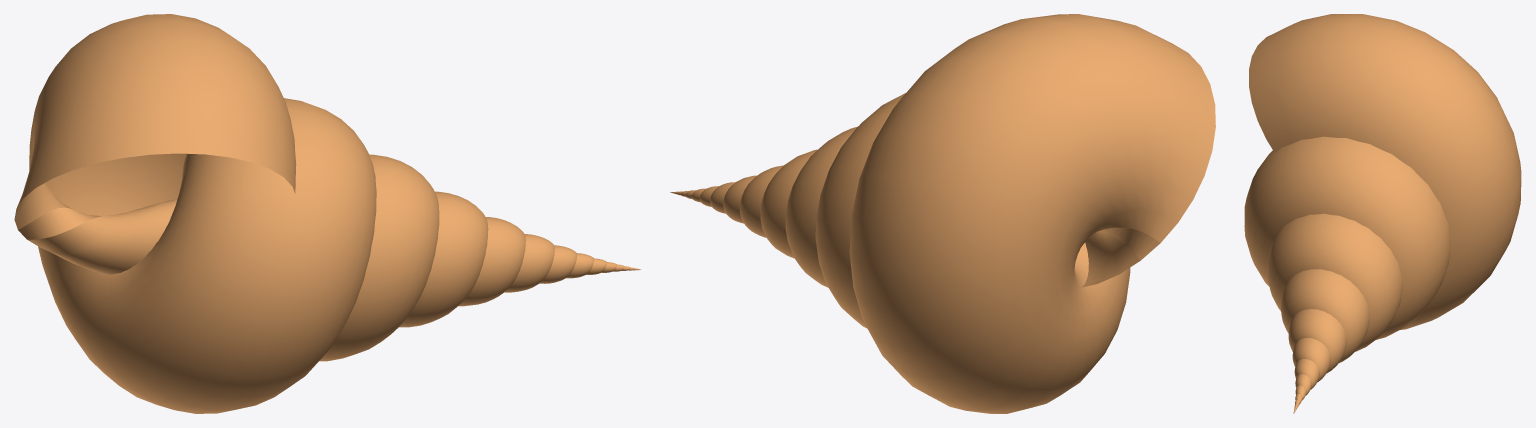
The model's file is SeaShell.fbx.
3 views of the same model, side by side, from view 1: azimuth 30°, elevation 25°; view 2: azimuth 150°, elevation 25°; view 3: azimuth 270°, elevation 25° (orthographic). The views are drawn at different scales.
Visible parts, largest first — view 1: SeaShell; view 2: SeaShell; view 3: SeaShell.
Part boxes in pixels (bbox=[...]): SeaShell: bbox=[14, 14, 640, 413]; SeaShell: bbox=[670, 14, 1215, 413]; SeaShell: bbox=[1244, 14, 1521, 413].
Size of the model in its own units: 475 by 296 by 261.
